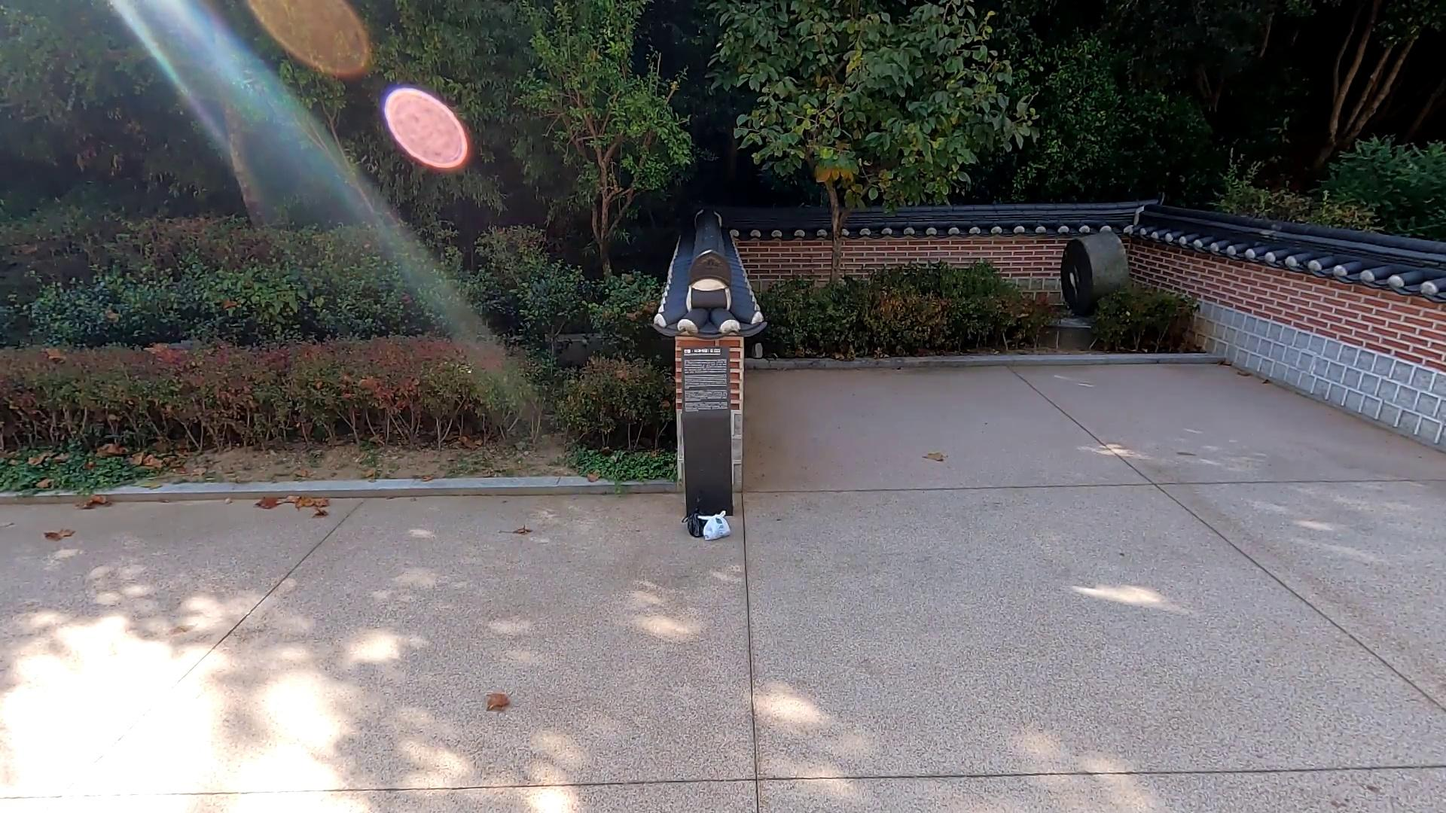trash: (681, 497, 722, 541), (697, 510, 732, 543)
